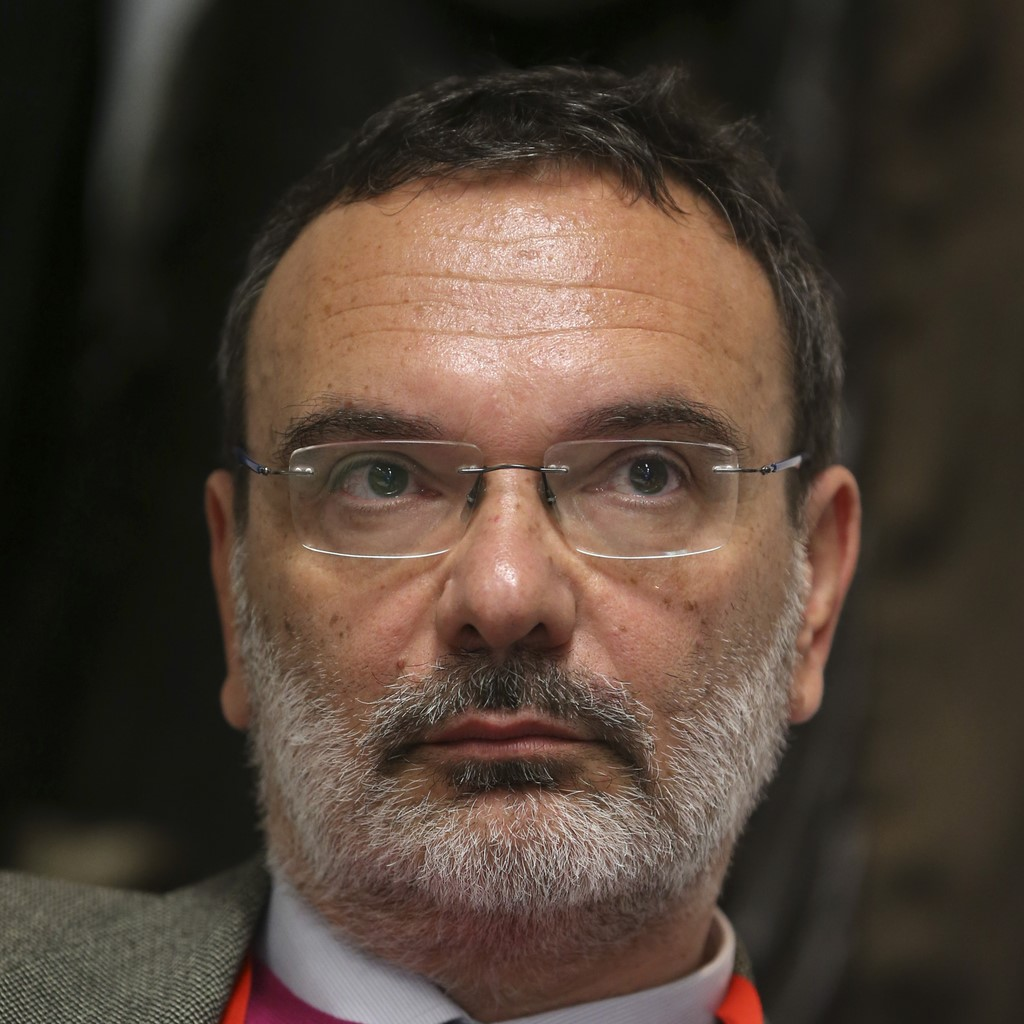sin_mascara: (230, 99, 834, 932)
